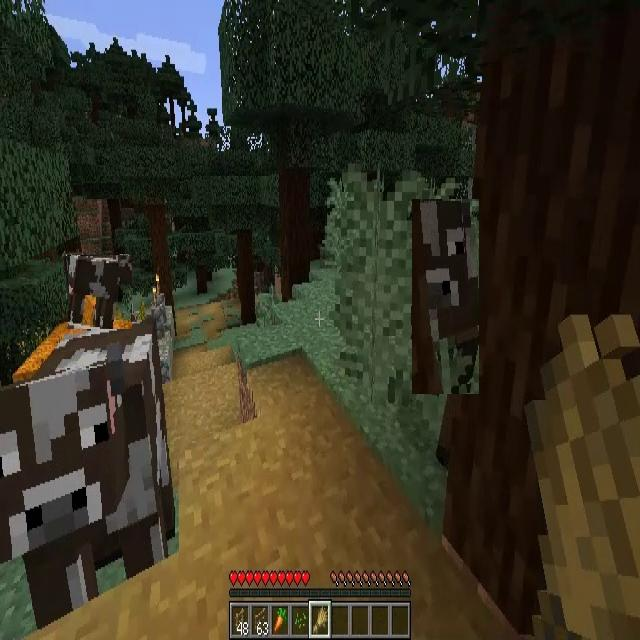cow: (2, 332, 179, 606), (412, 199, 479, 394), (68, 255, 132, 329)
